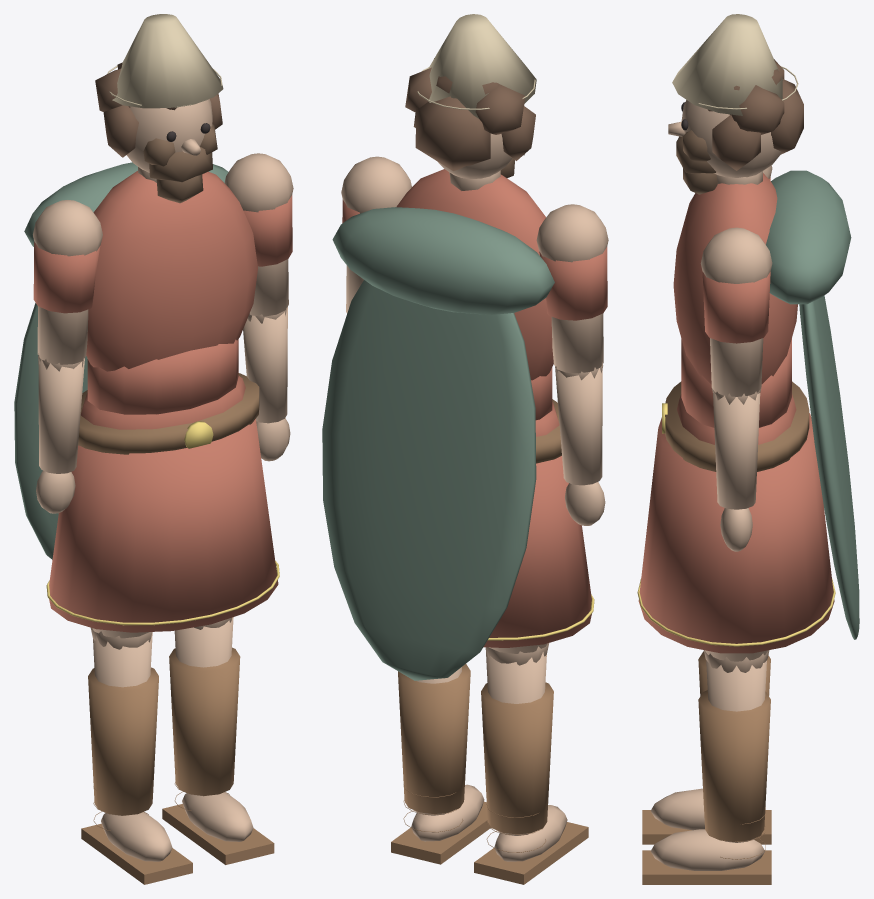
File: odiseo.glb
3 renders of one model, left to right at view 1: azimuth 30°, elevation 25°; view 2: azimuth 150°, elevation 25°; view 3: azimuth 270°, elevation 25°, orthographic. The views are drawn at different scales.
Parts seen in each view (by area): view 1: pelvis, torso, shin_R, head, shin_L, arm_R, cape, arm_L, forearm_R, forearm_L; view 2: cape, shin_R, head, shin_L, pelvis, arm_R, torso, forearm_R, arm_L; view 3: pelvis, cape, shin_L, head, torso, arm_L, forearm_L, shin_R.
Boxes of the visible parts, x1=… form: pelvis: x1=46, y1=373, x2=279, y2=632; torso: x1=86, y1=171, x2=257, y2=414; shin_R: x1=81, y1=627, x2=192, y2=884; head: x1=95, y1=14, x2=223, y2=203; shin_L: x1=162, y1=617, x2=274, y2=864; arm_R: x1=33, y1=200, x2=102, y2=364; cape: x1=14, y1=162, x2=228, y2=559; arm_L: x1=224, y1=153, x2=293, y2=316; forearm_R: x1=36, y1=353, x2=84, y2=513; forearm_L: x1=243, y1=307, x2=290, y2=461; cape: x1=322, y1=207, x2=554, y2=680; shin_R: x1=474, y1=643, x2=588, y2=884; head: x1=405, y1=14, x2=536, y2=190; shin_L: x1=391, y1=664, x2=491, y2=864; pelvis: x1=483, y1=399, x2=594, y2=647; arm_R: x1=536, y1=204, x2=608, y2=373; torso: x1=396, y1=169, x2=553, y2=420; forearm_R: x1=555, y1=362, x2=605, y2=525; arm_L: x1=341, y1=156, x2=411, y2=313; pelvis: x1=637, y1=381, x2=835, y2=653; cape: x1=766, y1=170, x2=859, y2=639; shin_L: x1=642, y1=650, x2=771, y2=884; head: x1=668, y1=14, x2=803, y2=194; torso: x1=673, y1=173, x2=797, y2=427; arm_L: x1=700, y1=227, x2=772, y2=396; forearm_L: x1=712, y1=388, x2=761, y2=551; shin_R: x1=642, y1=651, x2=771, y2=844.
Size of the model in its own units: 0.62 by 1.92 by 0.4646.
